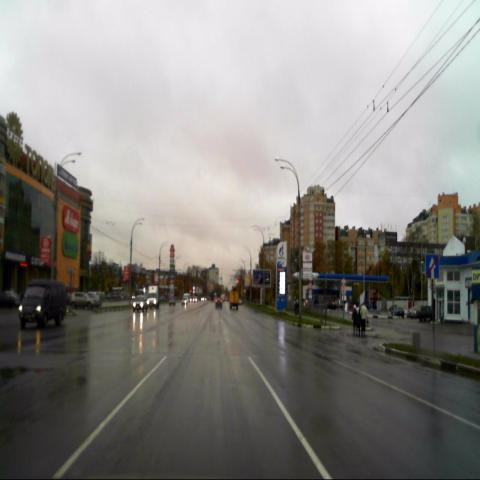5_6: (426, 253, 439, 278)
